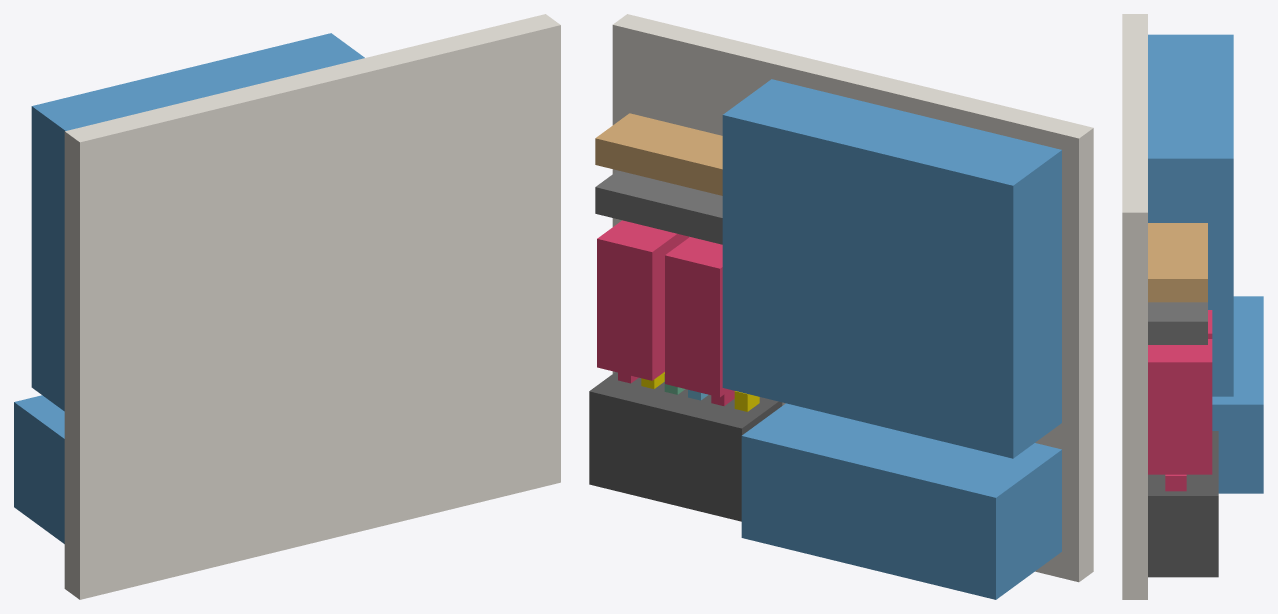
The model's file is dist-v2r.glb.
The picture shows the model from 3 angles, left to right: view 1: azimuth 30°, elevation 25°; view 2: azimuth 150°, elevation 25°; view 3: azimuth 270°, elevation 25°; orthographic projection. The views are drawn at different scales.
Size of the model in its own units: 220 by 200 by 66.
